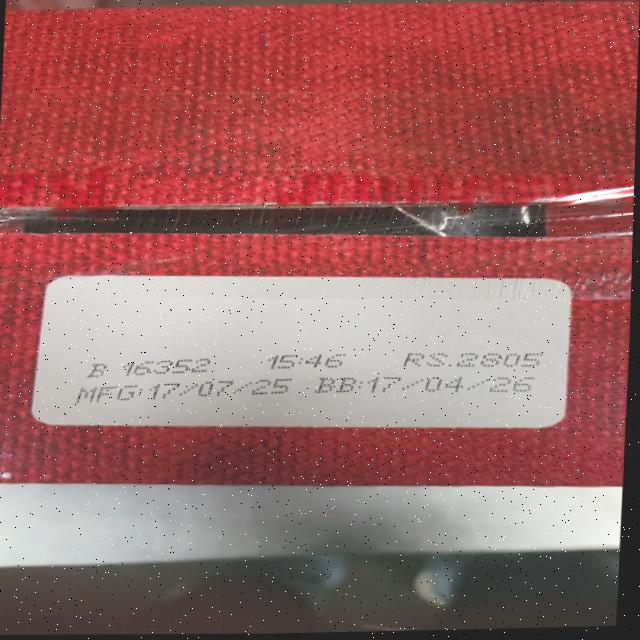BB: (314, 370, 537, 398)
Batch: (86, 357, 214, 378)
MFG: (79, 375, 294, 405)
RS: (400, 349, 545, 370)
TimeStamp: (265, 352, 350, 370)
